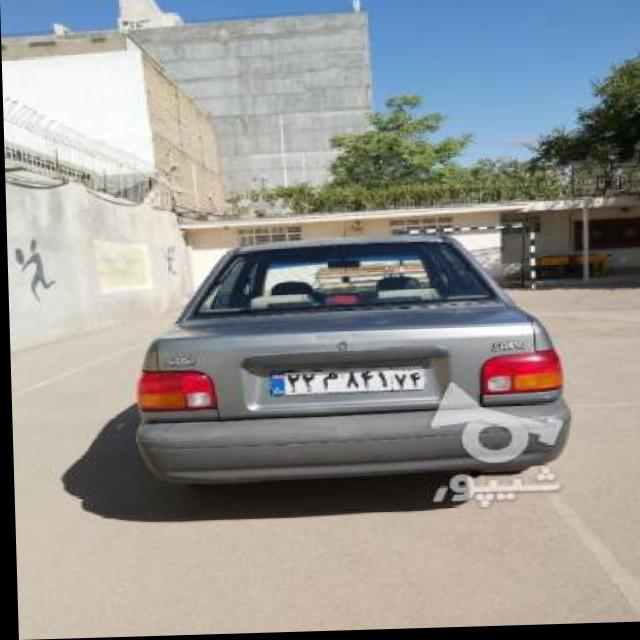licence: (259, 364, 424, 399)
